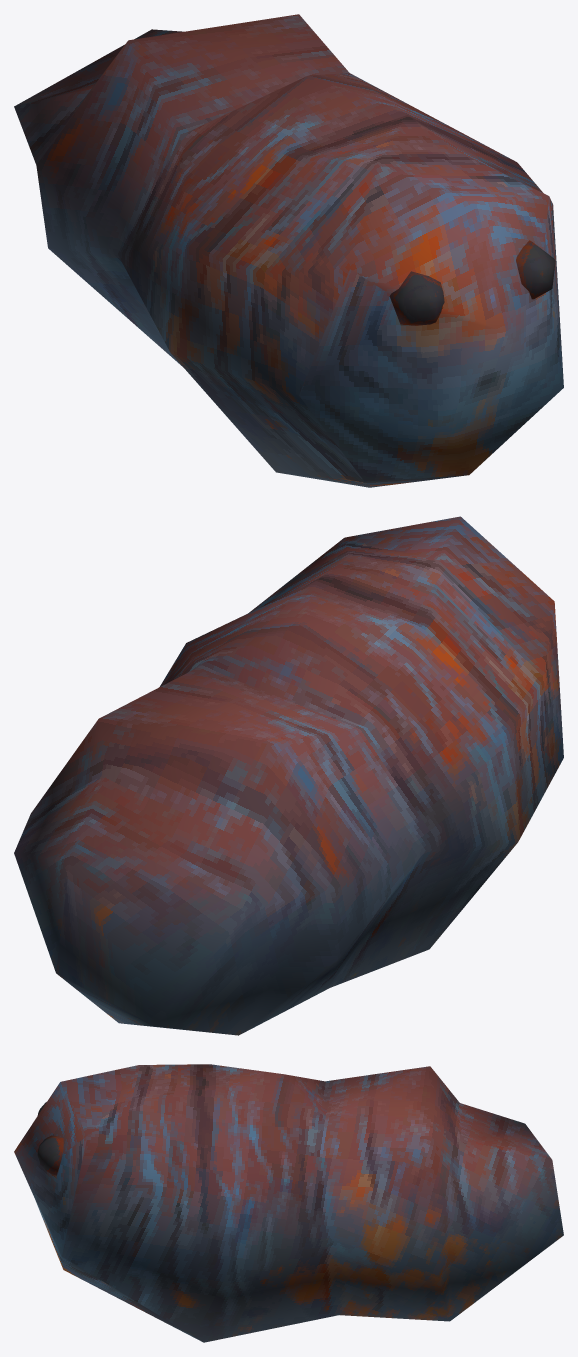
Rendered from item_bighead_larva.glb.
3 renders of one model, top to bottom at view 1: azimuth 30°, elevation 25°; view 2: azimuth 150°, elevation 25°; view 3: azimuth 270°, elevation 25°, orthographic. The views are drawn at different scales.
Parts seen in each view (by area): view 1: BigHead_Grub; view 2: BigHead_Grub; view 3: BigHead_Grub.
Part boxes in pixels (bbox=[...]): BigHead_Grub: bbox=[14, 14, 563, 487]; BigHead_Grub: bbox=[14, 516, 563, 1035]; BigHead_Grub: bbox=[14, 1064, 563, 1342].
Size of the model in its own units: 0.1231 by 0.1187 by 0.2335.
Materials: 1 (1 with a texture image).
